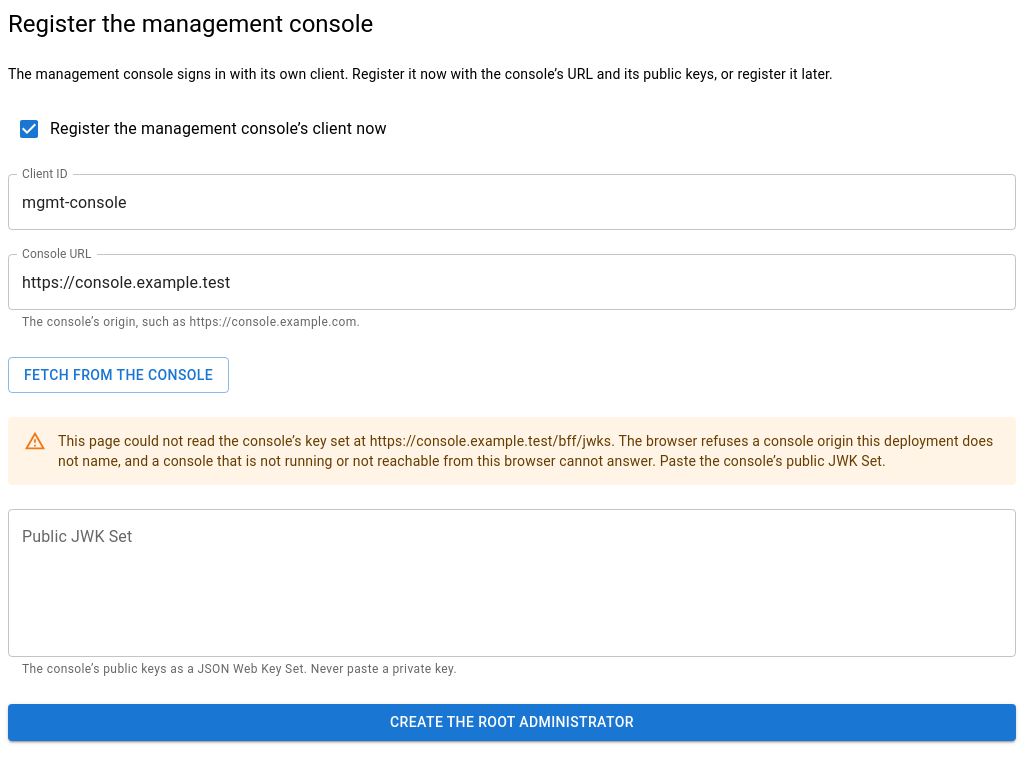
ConsoleClientStep › fetches again when the button is pressed
The image size is (1024, 768).
Expected: the message is shown, [8,417,1016,485]
Replace the text in the field labelled "Console URL" with " https://other.example.test " at coordinates (512, 282), box [8,254,1016,310]
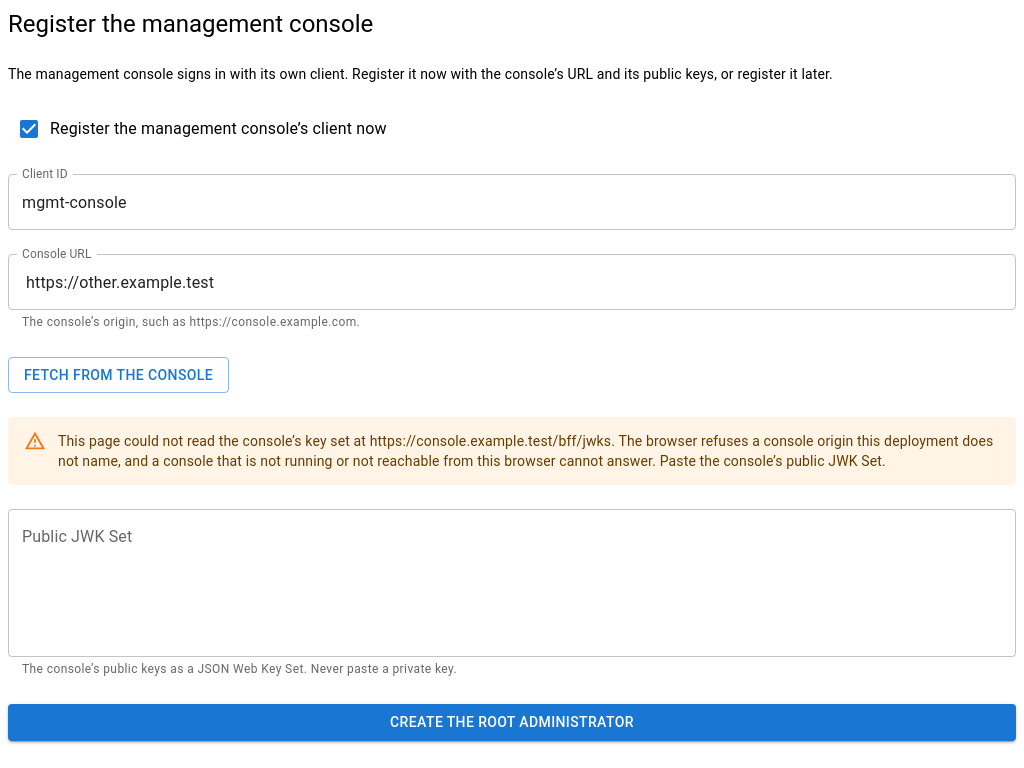
Click the button "Fetch from the console" at coordinates (119, 375), box [8,357,229,393]
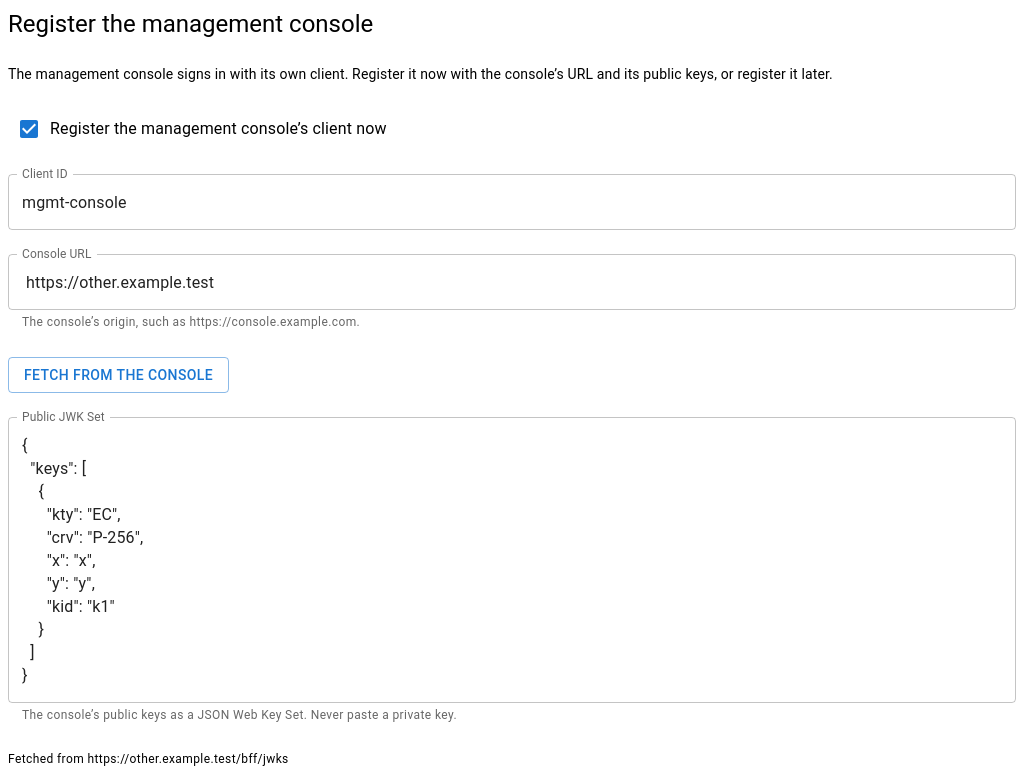
Now the text "Fetched from https://other.example.test/bff/jwks" is shown, box [8,752,289,766]
Now the message is gone
